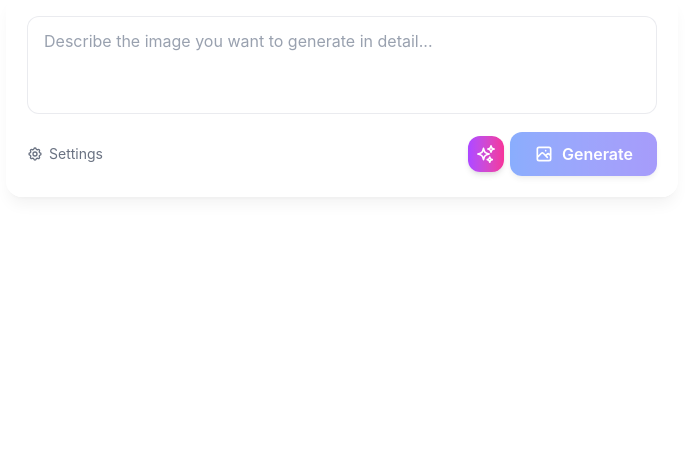
Test: ImageGenerator › settings panel › expands settings panel when clicking Settings button
The image size is (685, 468).
Click the button "Settings": (65, 154) [27, 144, 103, 164]
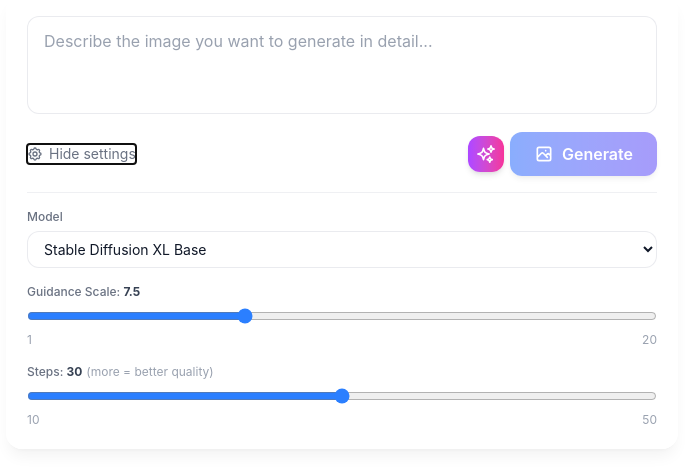
Expected: the text "Model" is shown, [27, 209, 63, 224]
Expected: the text "Steps: 30(more = better quality)" is shown, [27, 364, 214, 379]
